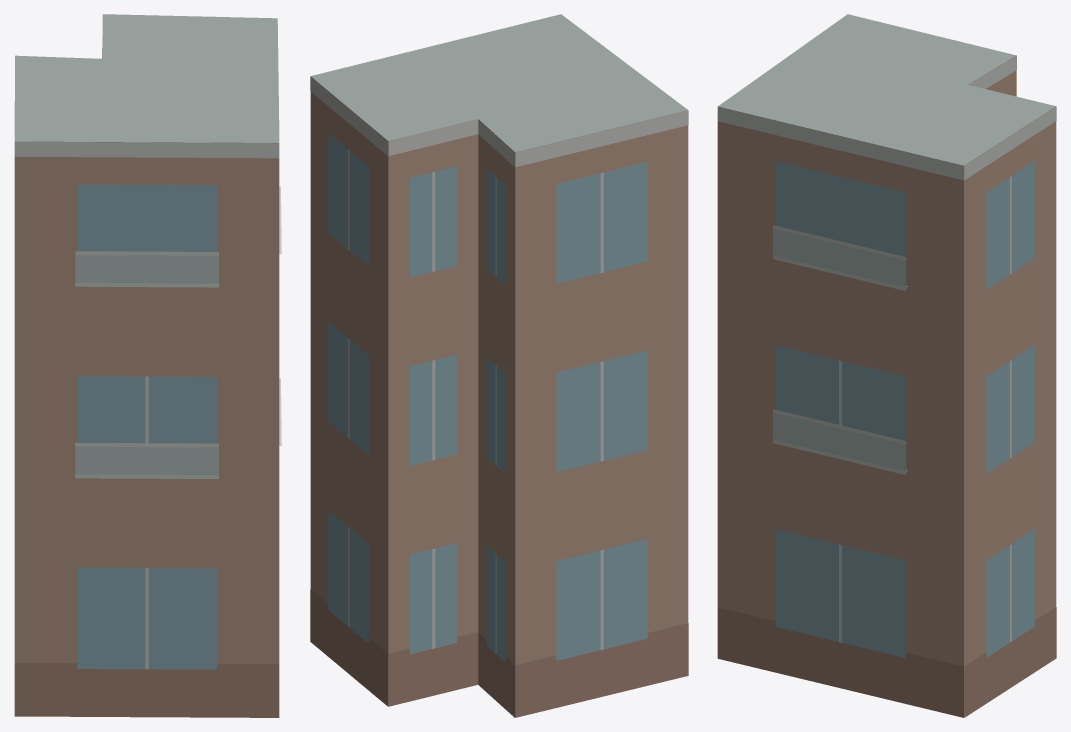
Rendered from survey-upis-32836192.glb.
The picture shows the model from 3 angles, left to right: view 1: azimuth 30°, elevation 25°; view 2: azimuth 150°, elevation 25°; view 3: azimuth 270°, elevation 25°; orthographic projection. The views are drawn at different scales.
Visible parts, largest first — view 1: survey-upis-32836192.tmp; view 2: survey-upis-32836192.tmp; view 3: survey-upis-32836192.tmp.
Boxes of the visible parts, box(x1,y1,x2,y2) form: survey-upis-32836192.tmp: box(14, 14, 281, 717); survey-upis-32836192.tmp: box(310, 14, 688, 717); survey-upis-32836192.tmp: box(717, 14, 1056, 717).
Bounding box in the file's own units: 5.4 × 9.15 × 5.1.
